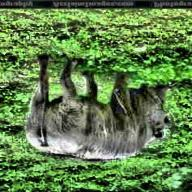boar: (29, 61, 190, 163)
